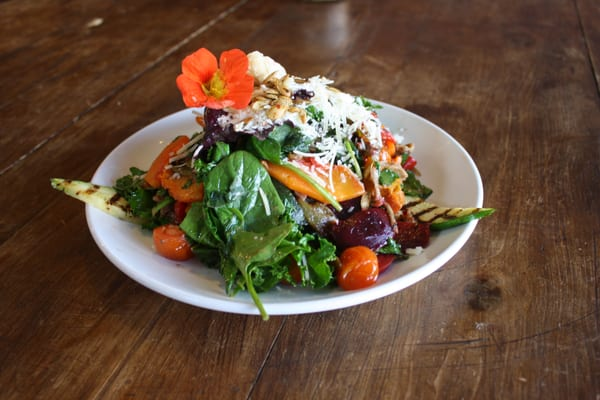sushi: (67, 38, 495, 320)
